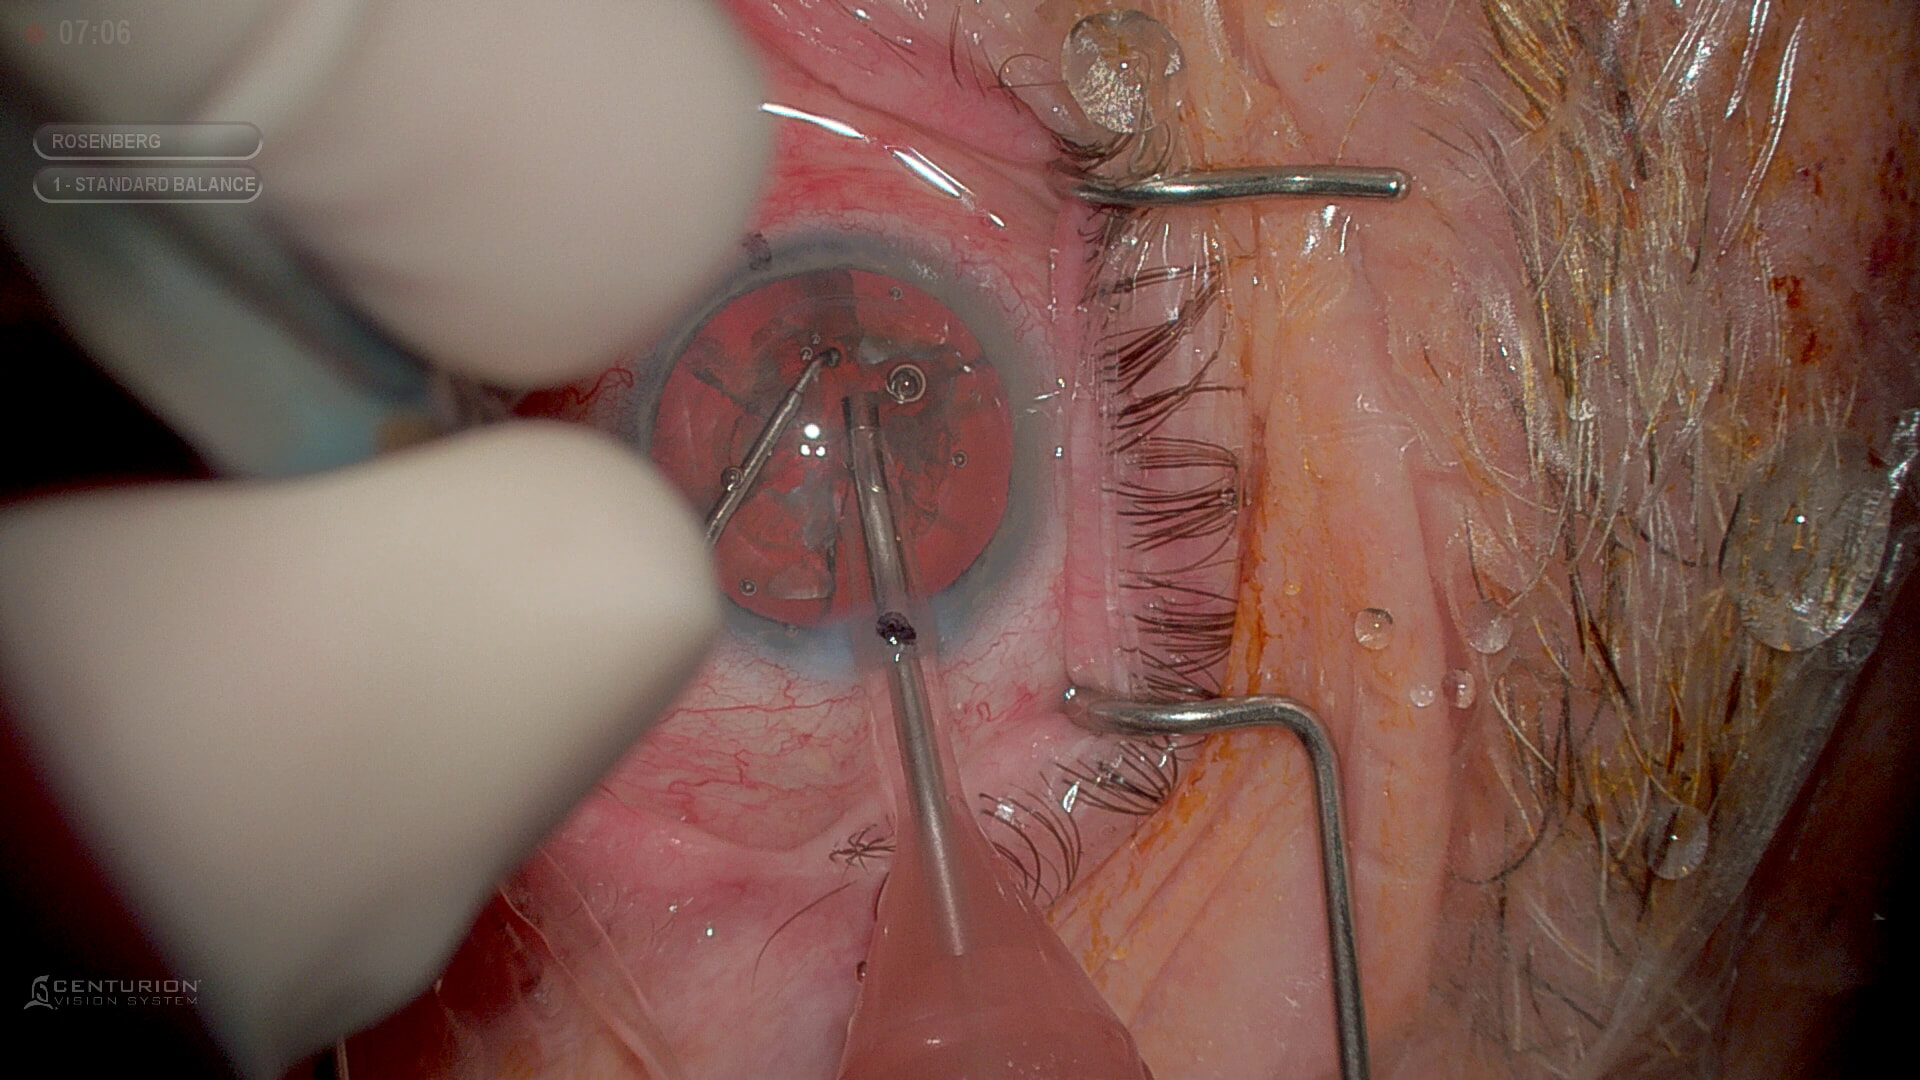iris: (622, 243, 1047, 667)
pupil: (645, 265, 1016, 631)
